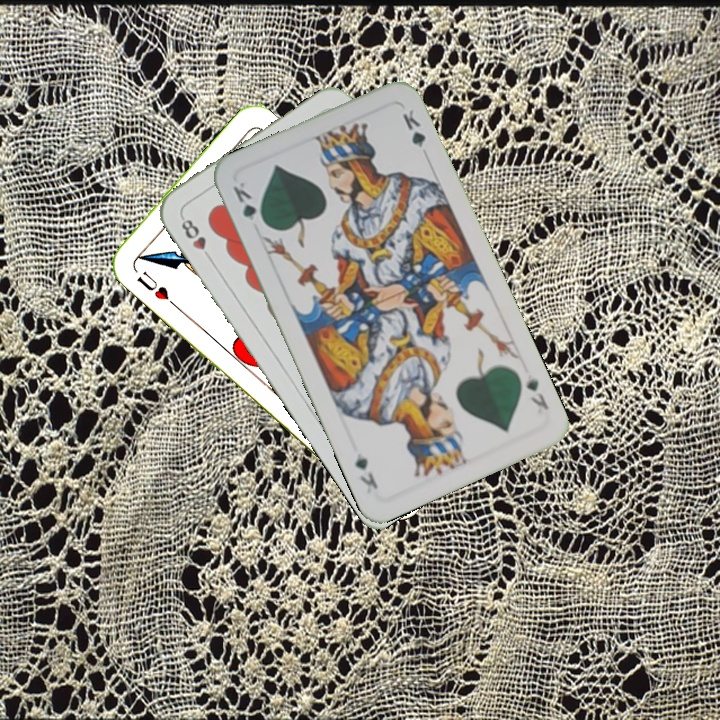GK: (228, 177, 269, 229), (522, 373, 552, 413)
H8: (177, 212, 216, 264)
HU: (133, 267, 178, 309)
